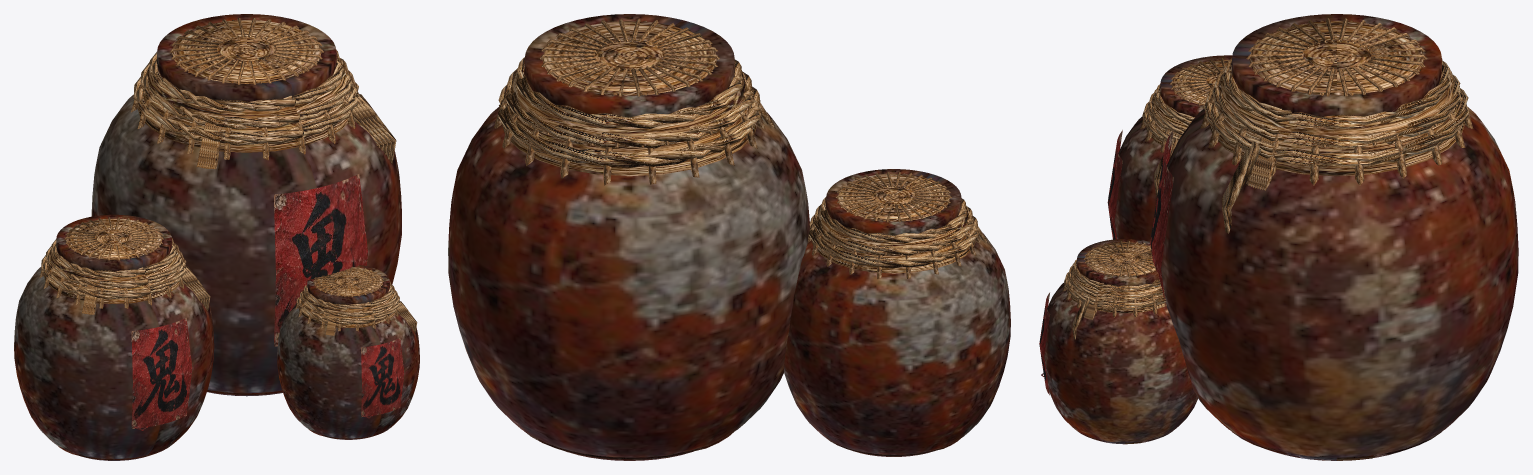
Rendered from nyanisyarud-oni-jars.glb.
3 renders of one model, left to right at view 1: azimuth 30°, elevation 25°; view 2: azimuth 150°, elevation 25°; view 3: azimuth 270°, elevation 25°, orthographic. The views are drawn at different scales.
Parts seen in each view (by area): view 1: 06 Oni Sake Jars; view 2: 06 Oni Sake Jars; view 3: 06 Oni Sake Jars.
Boxes of the visible parts, x1,y1,x2,y2 form: 06 Oni Sake Jars: (14,14,419,460); 06 Oni Sake Jars: (448,14,1010,460); 06 Oni Sake Jars: (1039,14,1518,460).
Bounding box in the file's own units: 3.57 × 2.66 × 3.17.
Materials: 4 (4 with a texture image).
